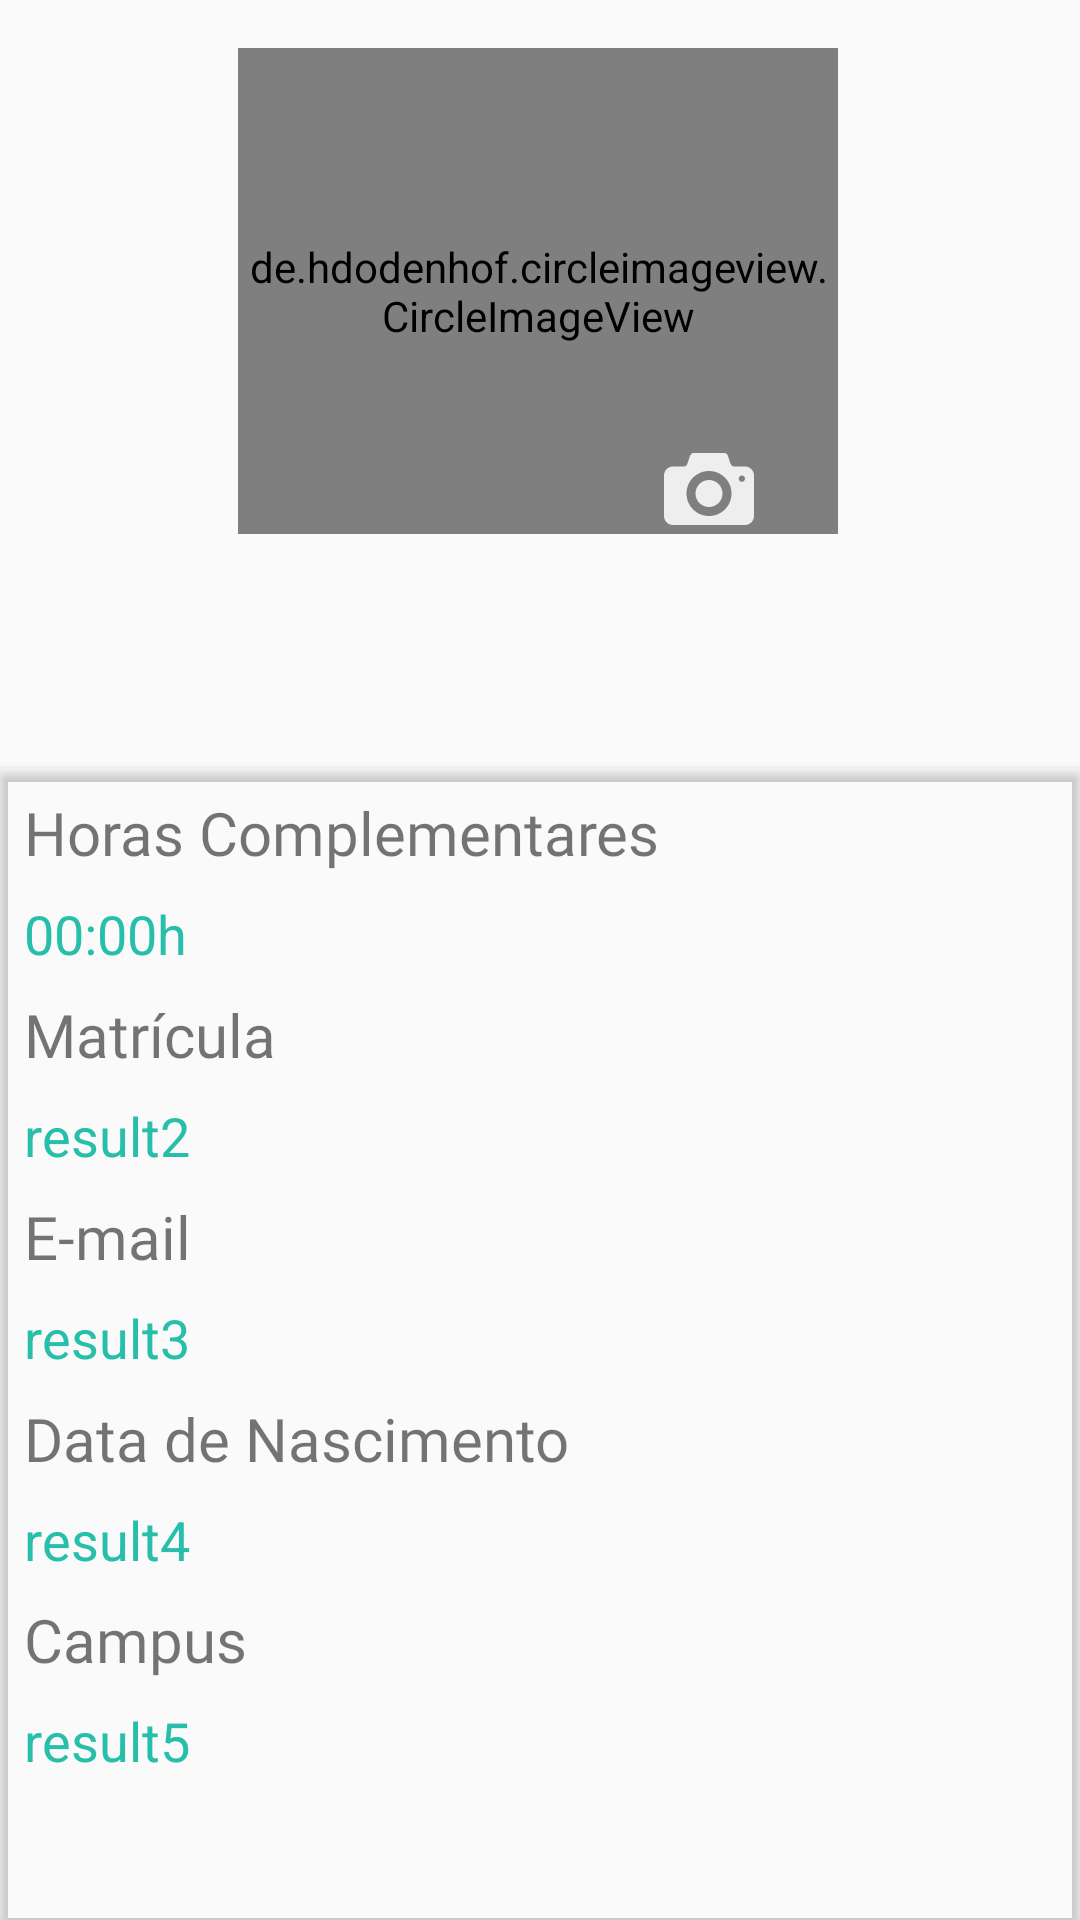

Icons on this 1080w x 1920h Android screen, each with its box as bbox=[x1, y1, x2, y2]:
camera: bbox=[664, 453, 754, 525]
